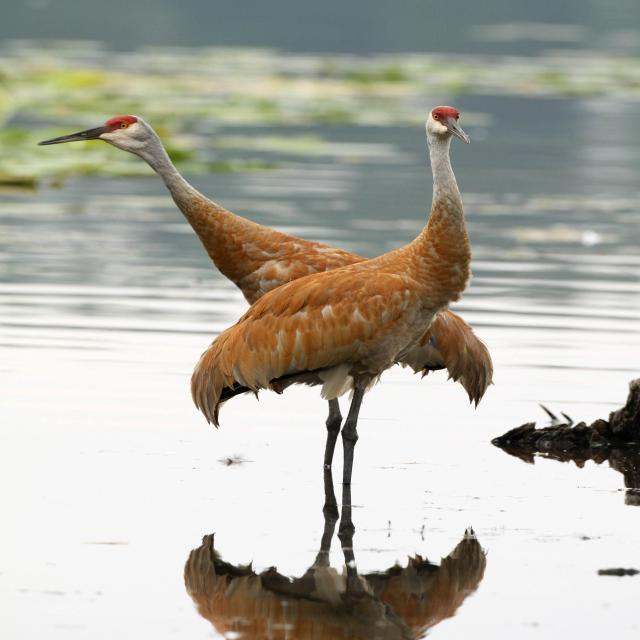bird: (59, 38, 548, 572), (173, 80, 473, 600)
